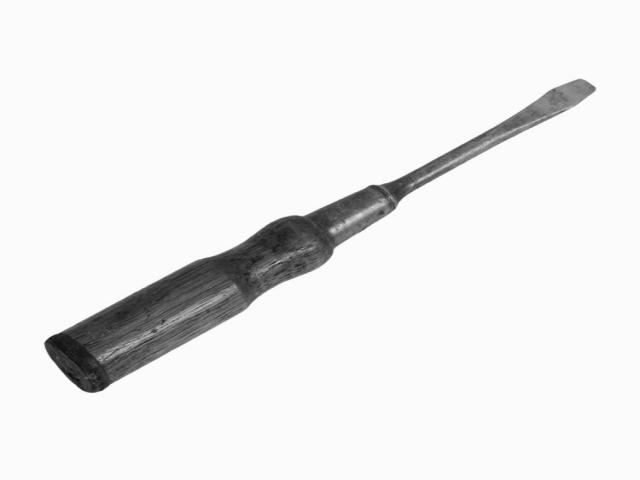Screwdriver: (45, 80, 594, 391)
